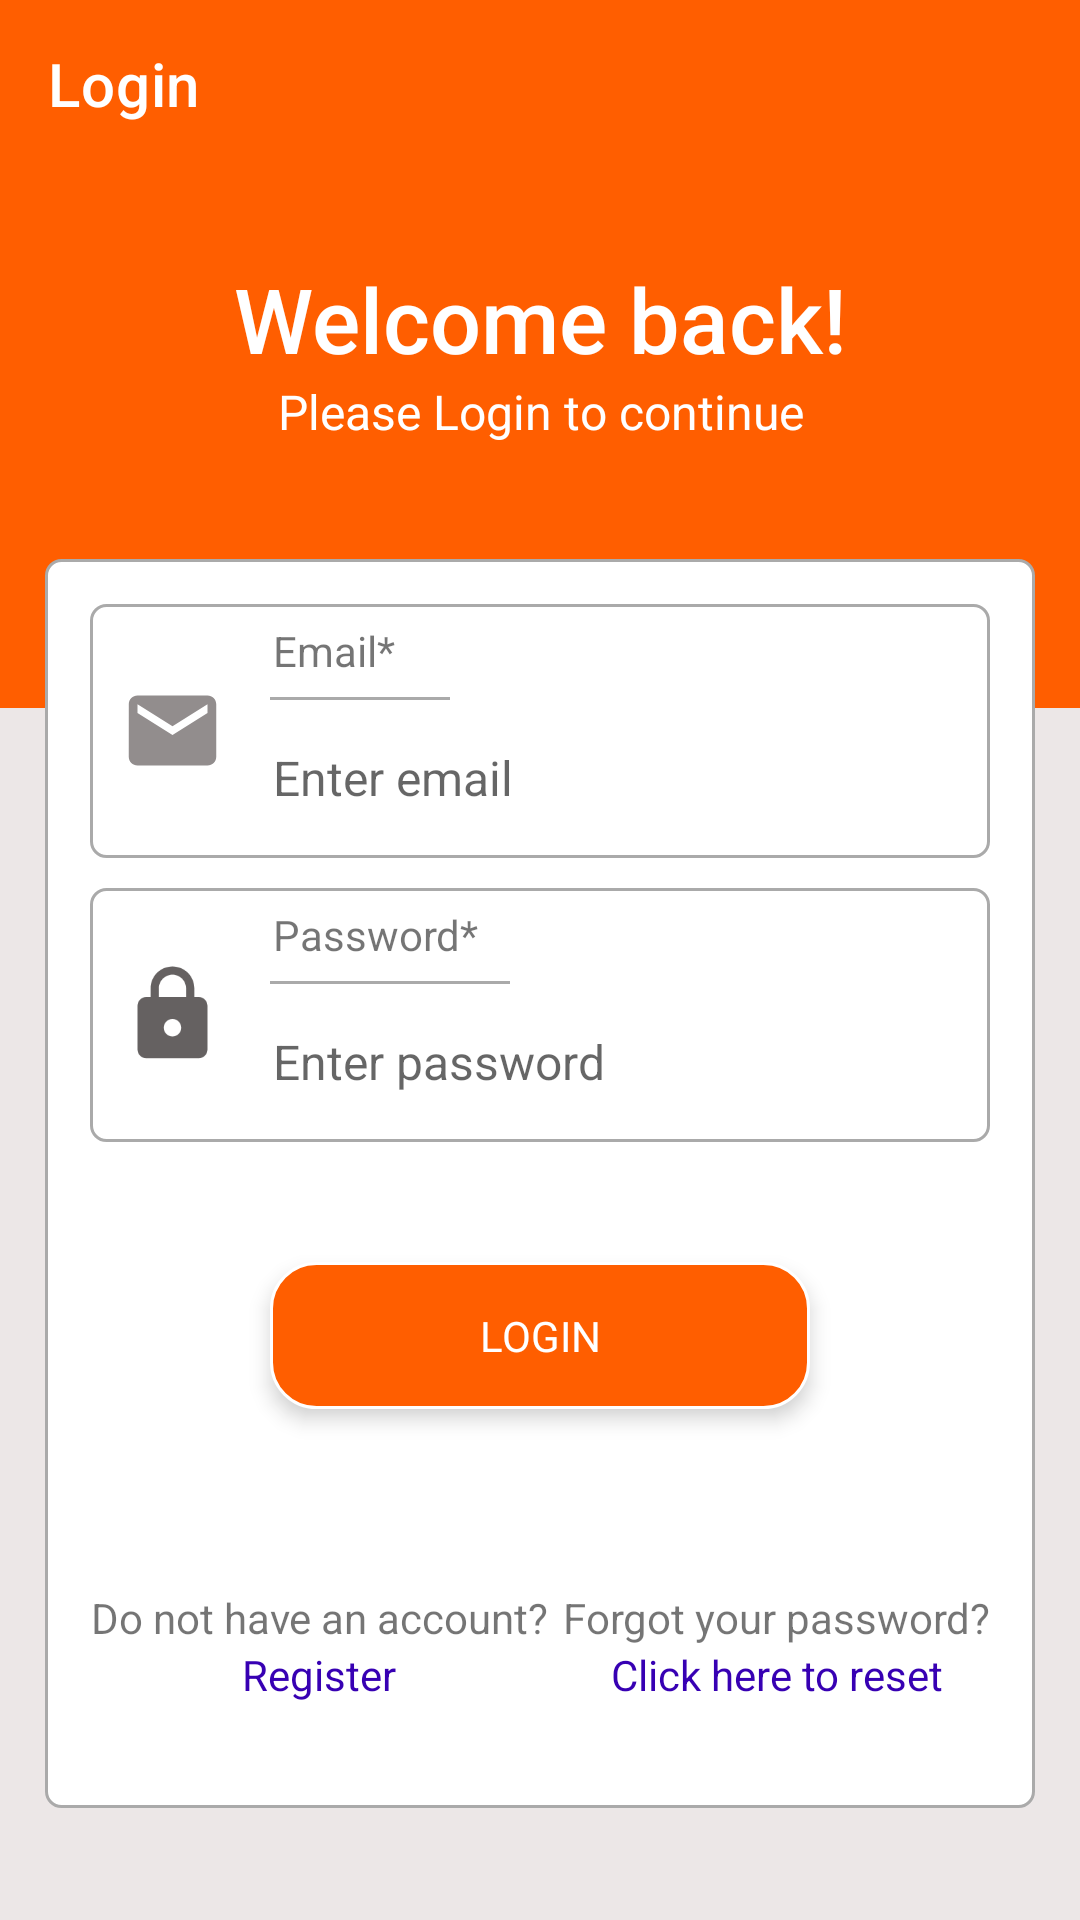

Named icons in this screenshot (1080 × 1920) and their bounding boxes, (x1, y1, x2, y2):
lock: (137, 966, 208, 1059)
